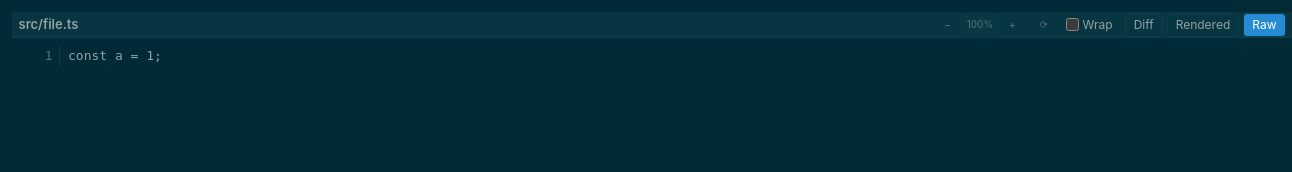
Test case: ContentViewer › text-like Rendered vs Raw split (RawFile `highlight` prop) › a TypeScript file: Rendered shows highlighted token spans, Raw shows the same plain text, from ONE read
Step 1. Click the tab "Rendered" → (1203, 24), box x1=1167 y1=12 x2=1239 y2=36
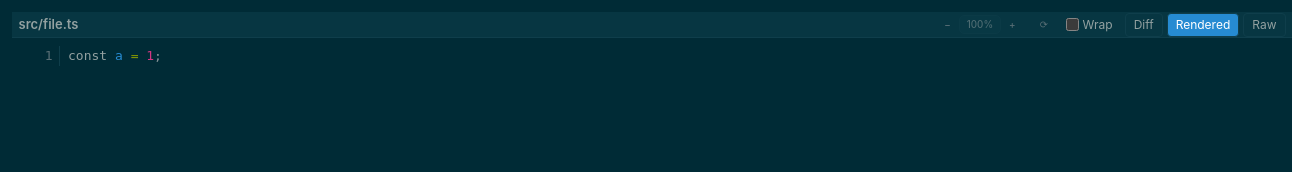
Expected: the text "const" is shown, x1=68 y1=48 x2=107 y2=63
Step 2. Click the tab "Raw" → (1264, 24), box x1=1243 y1=12 x2=1286 y2=36
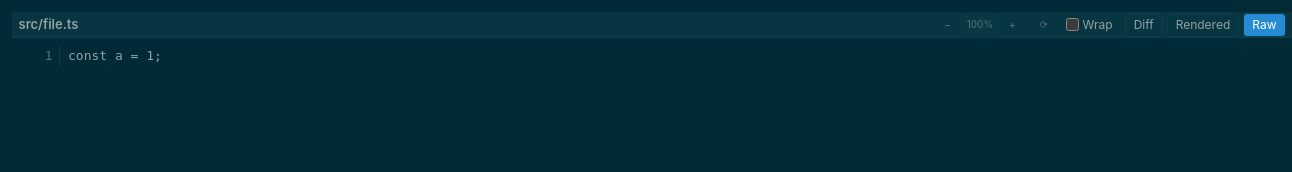
Expected: the text "const a = 1;" is shown, x1=68 y1=48 x2=162 y2=63
